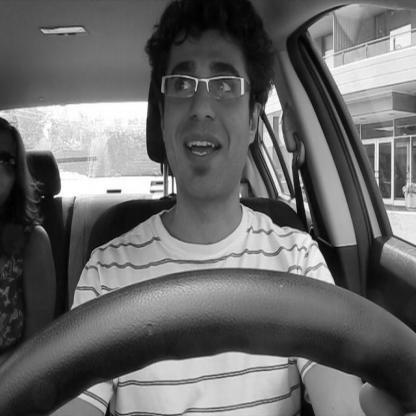no-seatbelt: (111, 13, 291, 416)
